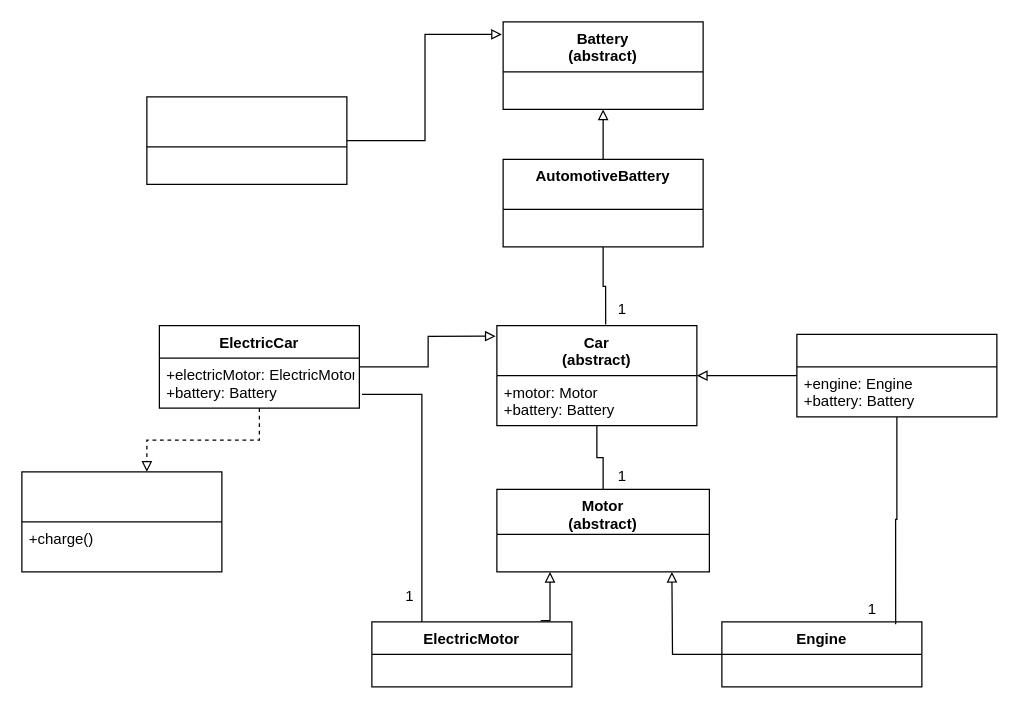
Image size: 1019x713. Some labels were removed from this diagram. Each missing label, with the box of its shape:
CombustionCar: (796, 333, 997, 417)
ElectricVehicleBattery: (146, 96, 347, 184)
Rechargable (interface): (21, 471, 222, 572)
